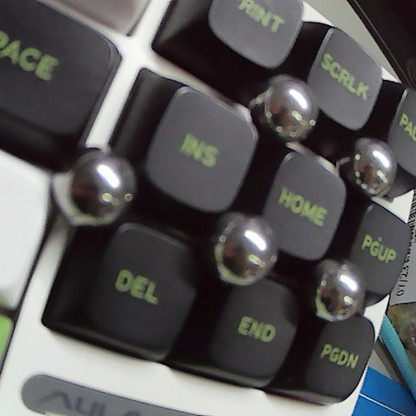ironball: (194, 200, 286, 294), (239, 62, 326, 151), (49, 145, 133, 226), (339, 132, 400, 208), (311, 251, 370, 320)
